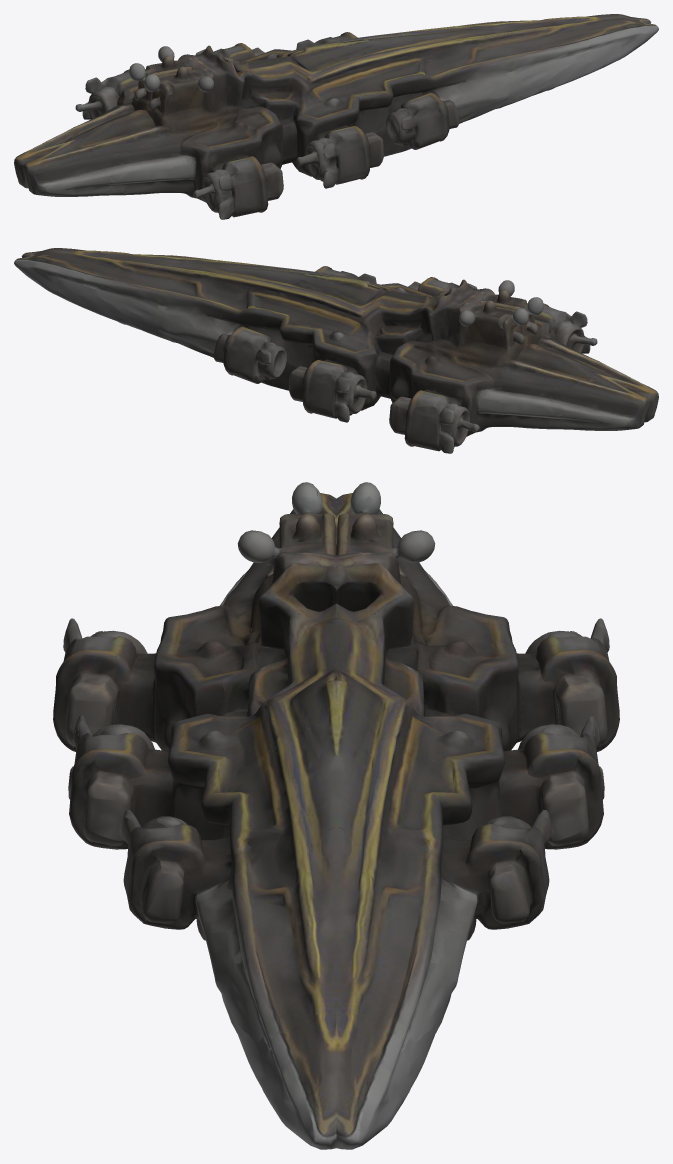
File: imperator_vx.glb
The picture shows the model from 3 angles, top to bottom: view 1: azimuth 30°, elevation 25°; view 2: azimuth 150°, elevation 25°; view 3: azimuth 270°, elevation 25°; orthographic projection. The views are drawn at different scales.
Parts seen in each view (by area): view 1: tripo_node_a3e949f9-fa1c-4c9c-a159-240ae3bebabb; view 2: tripo_node_a3e949f9-fa1c-4c9c-a159-240ae3bebabb; view 3: tripo_node_a3e949f9-fa1c-4c9c-a159-240ae3bebabb.
Boxes of the visible parts, x1,y1,x2,y2 form: tripo_node_a3e949f9-fa1c-4c9c-a159-240ae3bebabb: [14, 14, 658, 219]; tripo_node_a3e949f9-fa1c-4c9c-a159-240ae3bebabb: [14, 248, 658, 453]; tripo_node_a3e949f9-fa1c-4c9c-a159-240ae3bebabb: [53, 482, 619, 1149].
Size of the model in its own units: 2 by 0.3478 by 0.775.
1 material, 1 textured.
